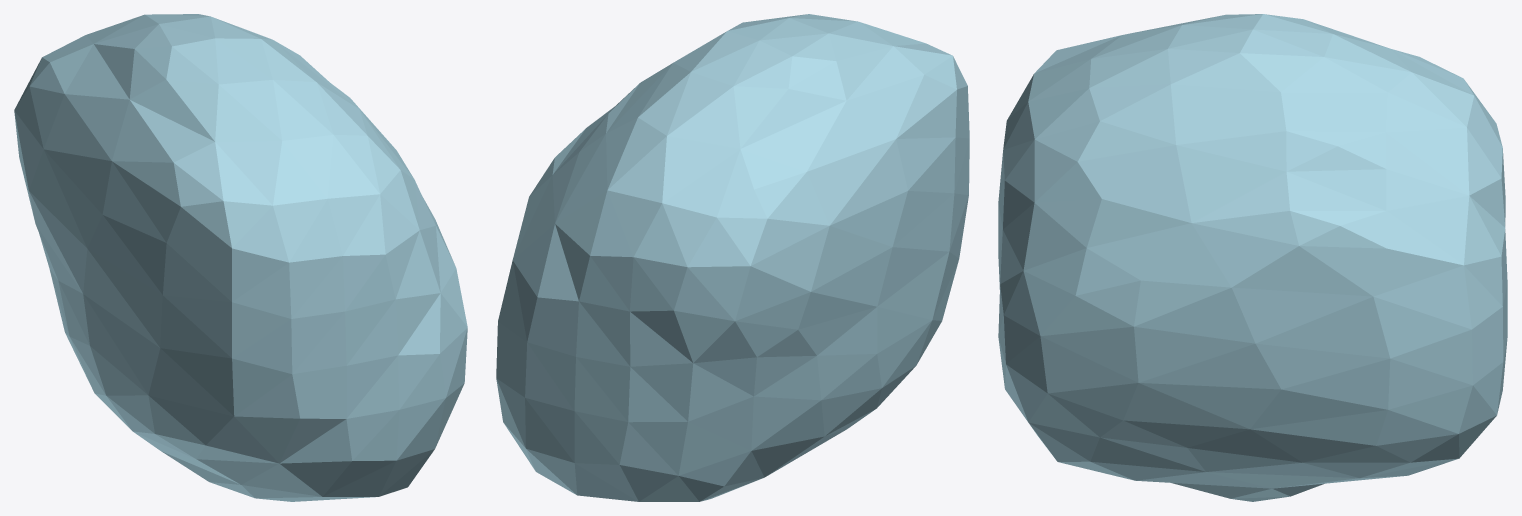
Rendered from liverkyst.obj.
3 views of the same model, side by side, from view 1: azimuth 30°, elevation 25°; view 2: azimuth 150°, elevation 25°; view 3: azimuth 270°, elevation 25° (orthographic). The views are drawn at different scales.
Visible parts, largest first — view 1: grp1; view 2: grp1; view 3: grp1.
Part boxes in pixels (box(x1,y1,x2,y2)): grp1: box(14, 14, 467, 501); grp1: box(496, 14, 969, 501); grp1: box(998, 14, 1507, 501).
Bounding box in the file's own units: 3.34 × 4.65 × 4.8.
